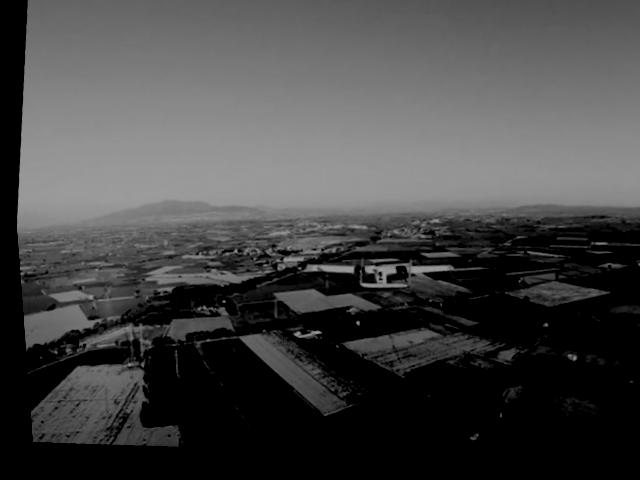hedef: (292, 235, 457, 321)
